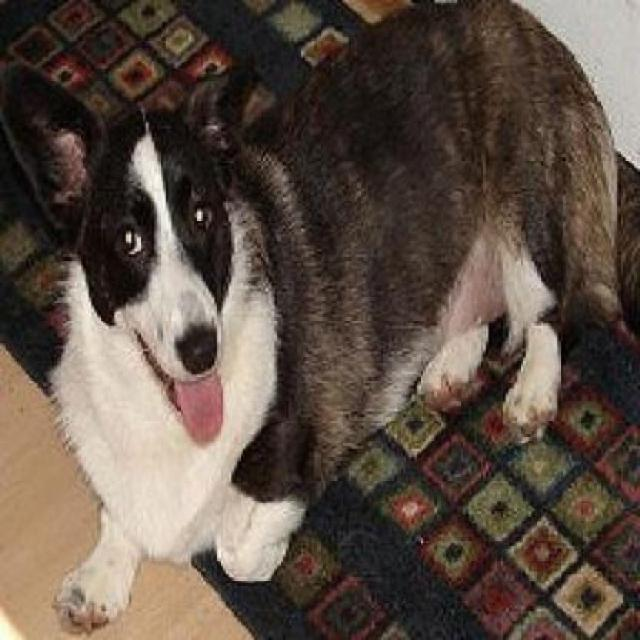Dog: (2, 1, 624, 638)
